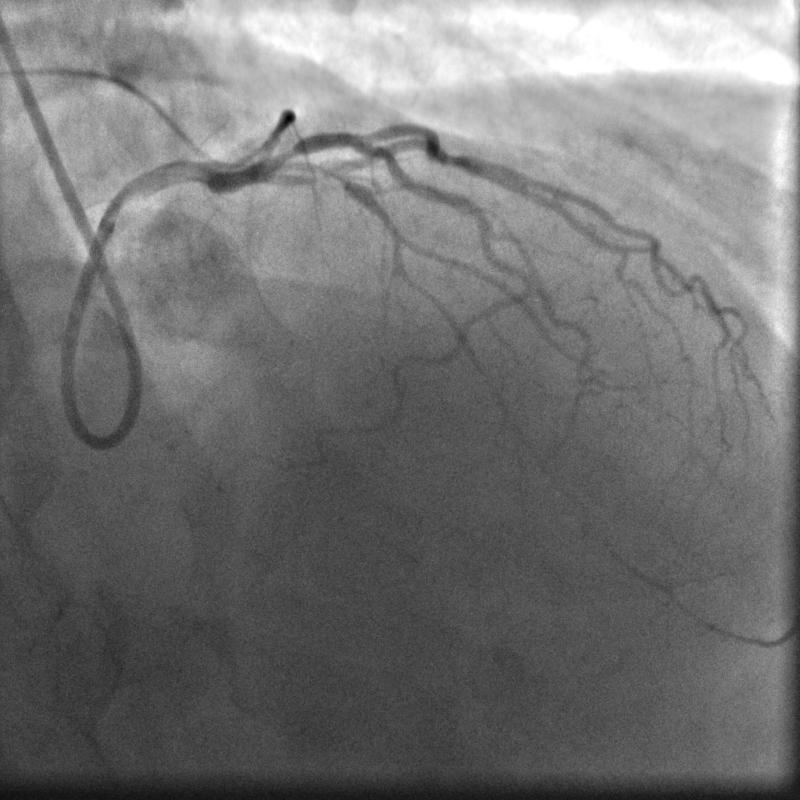Stenosis: (269, 145, 305, 169)
